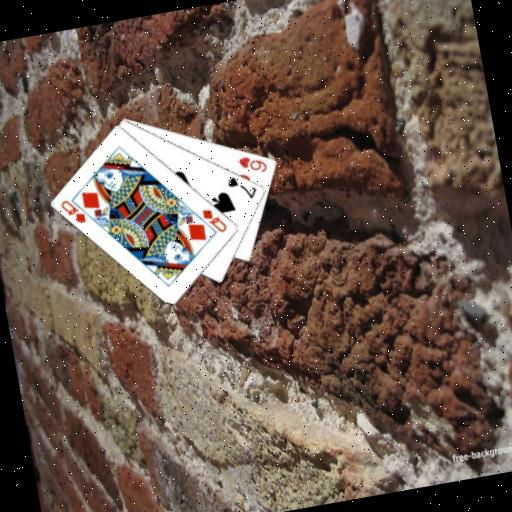6H: (234, 150, 270, 178)
7S: (223, 170, 259, 204)
QD: (199, 202, 230, 236), (57, 193, 88, 227)
